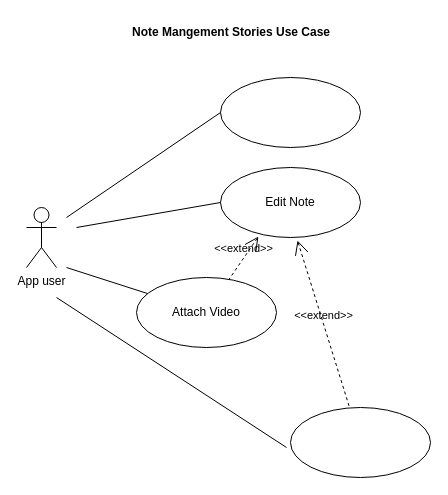
Some shapes in this 448 by 495 pixel diagram are drawn without their labels. The box of each missing label's shape, as (x1, y1, x2, y2) in pixels:
Attach Photo: (290, 406, 430, 478)
Create Note: (220, 76, 360, 148)
